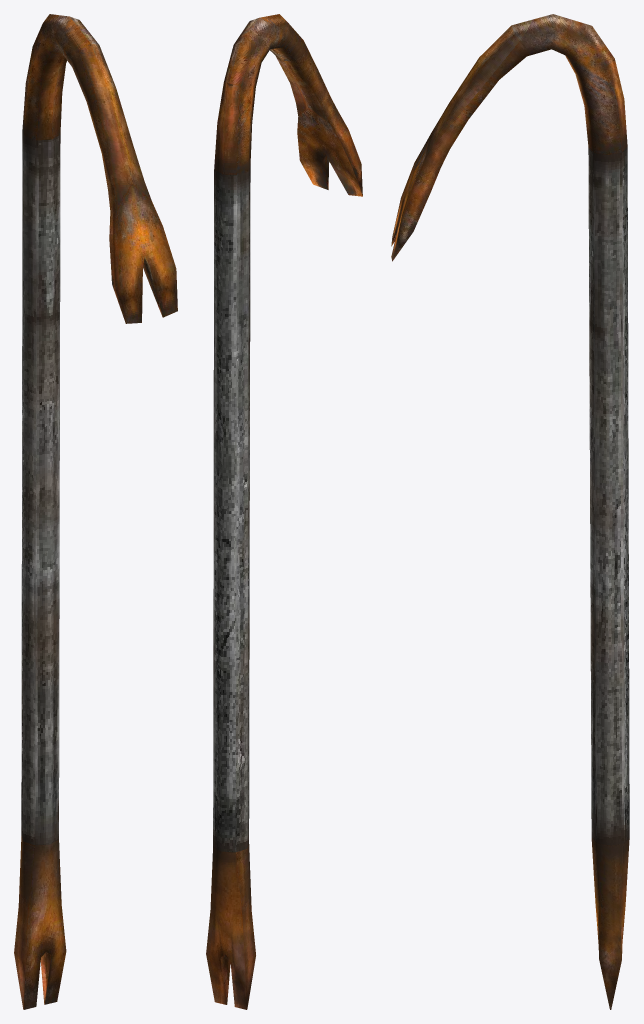
The model's file is horror_game_crowbar.glb.
3 views of the same model, side by side, from view 1: azimuth 30°, elevation 25°; view 2: azimuth 150°, elevation 25°; view 3: azimuth 270°, elevation 25° (orthographic). The views are drawn at different scales.
Visible parts, largest first — view 1: Cube.001_0; view 2: Cube.001_0; view 3: Cube.001_0.
Boxes of the visible parts, x1=… form: Cube.001_0: x1=14, y1=14, x2=177, y2=1009; Cube.001_0: x1=206, y1=14, x2=362, y2=1009; Cube.001_0: x1=391, y1=14, x2=629, y2=1009.
Bounding box in the file's own units: 3.57 × 57.27 × 12.52.
Materials: 2 (2 with a texture image).
